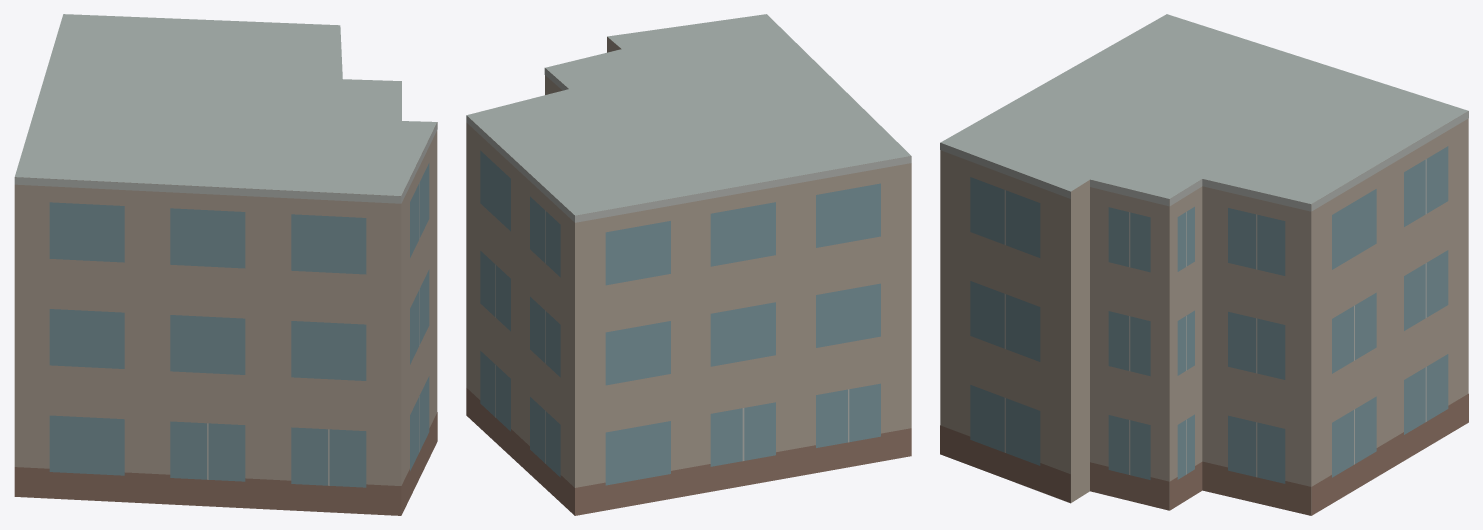
Rendered from survey-upis-32656864.glb.
3 views of the same model, side by side, from view 1: azimuth 30°, elevation 25°; view 2: azimuth 150°, elevation 25°; view 3: azimuth 270°, elevation 25° (orthographic). The views are drawn at different scales.
Parts seen in each view (by area): view 1: survey-upis-32656864.tmp; view 2: survey-upis-32656864.tmp; view 3: survey-upis-32656864.tmp.
Boxes of the visible parts, box(x1,y1,x2,y2) form: survey-upis-32656864.tmp: box(14, 14, 437, 515); survey-upis-32656864.tmp: box(466, 14, 911, 515); survey-upis-32656864.tmp: box(940, 14, 1468, 515).
Bounding box in the file's own units: 13.36 × 10.2 × 15.68.
